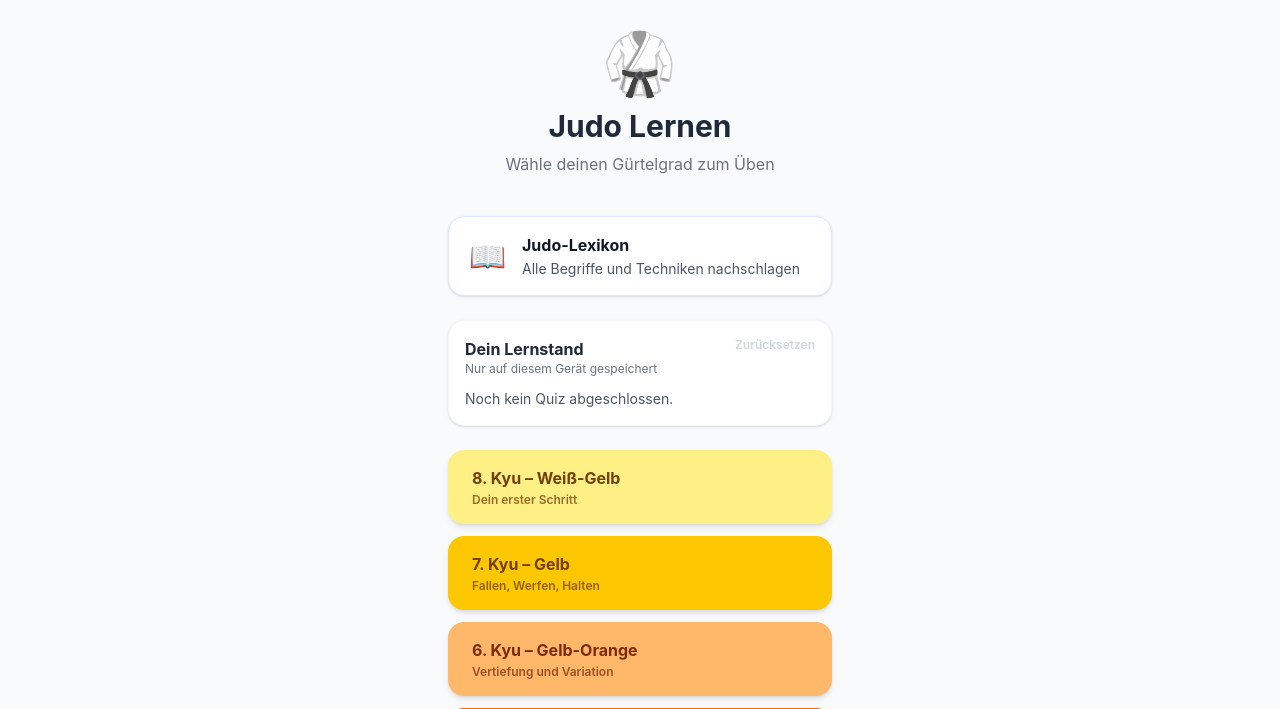
Test: App – integration › navigates to the glossary and back to the home screen
Click the button with test id "open-glossary-btn" at x=488, y=256, box 448,216 -> 832,296
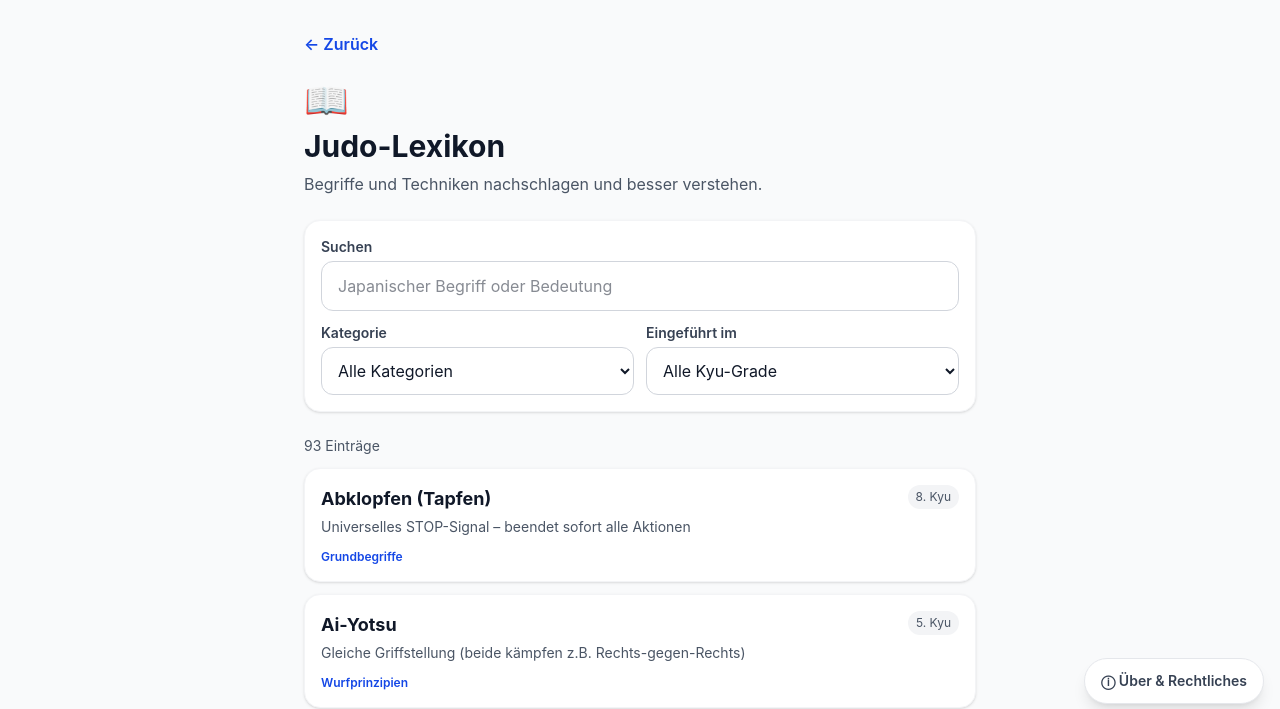
Now the heading "Judo-Lexikon" is shown, box 304,128 -> 505,164
Click the button "← Zurück" at x=341, y=44, box 304,32 -> 378,56
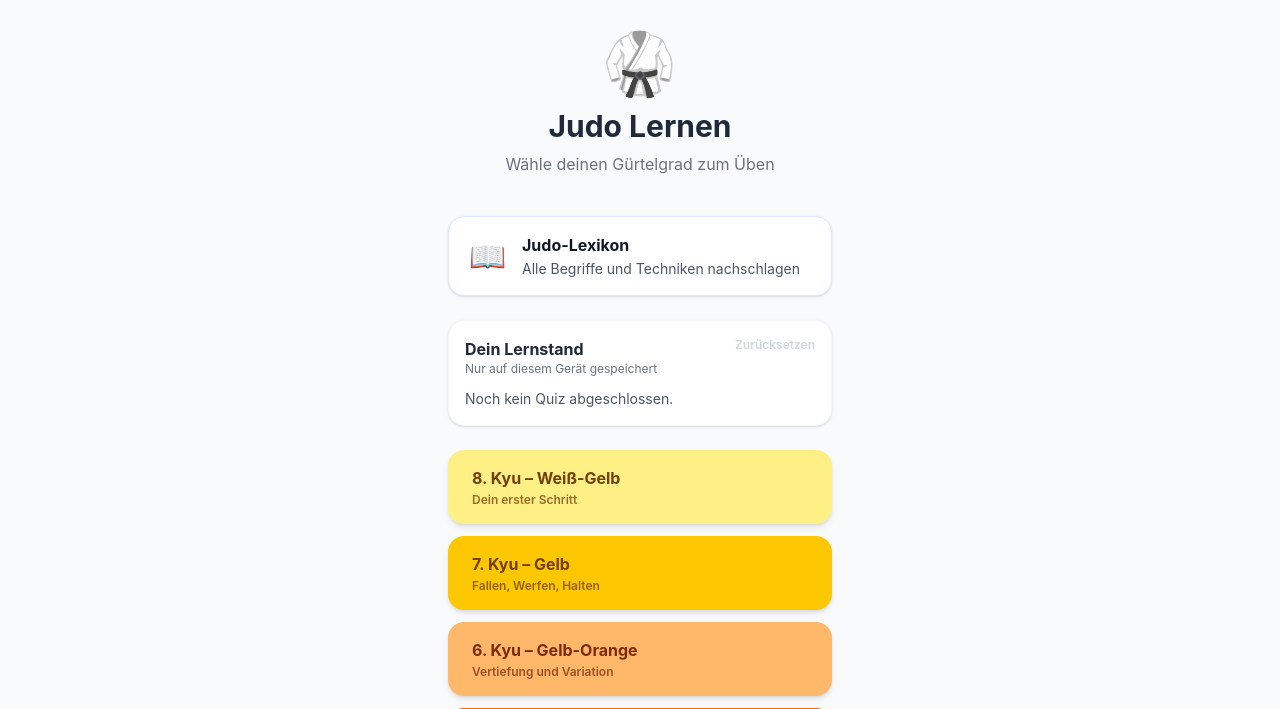
Now the heading "Judo Lernen" is shown, box 548,108 -> 732,144
